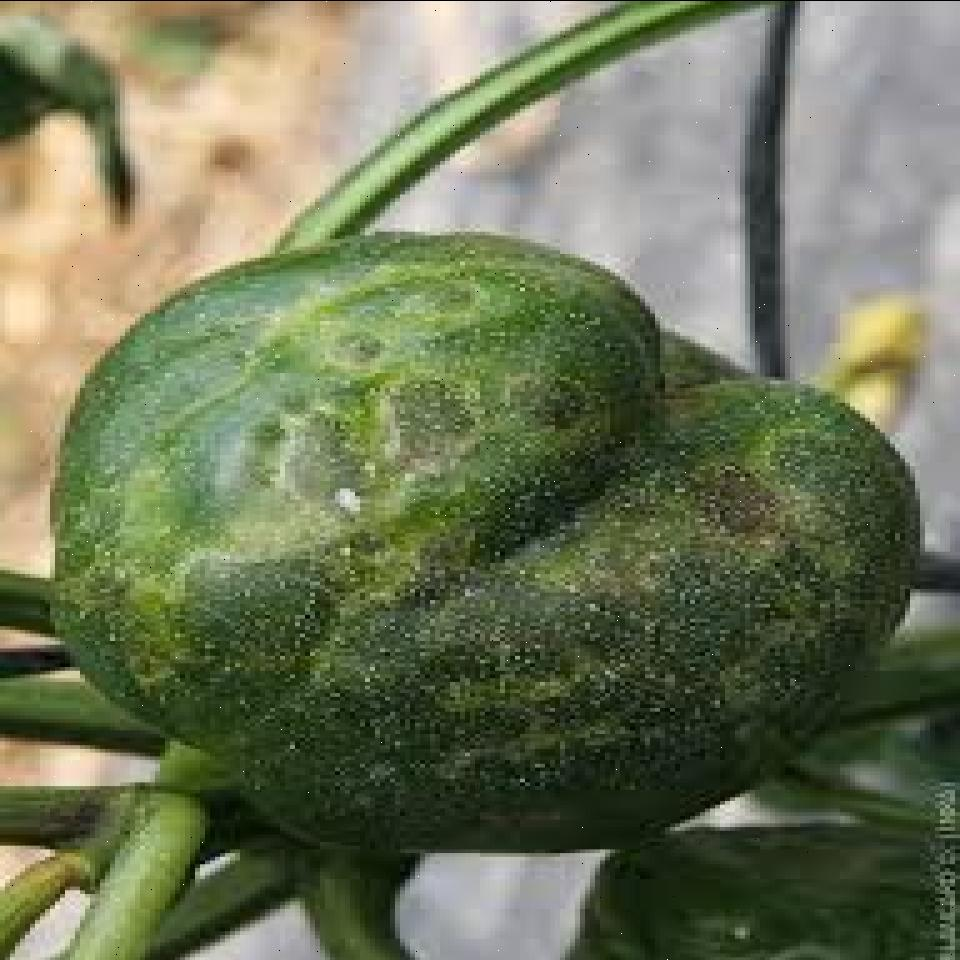Spotted wilt Virus: (51, 230, 928, 852)
